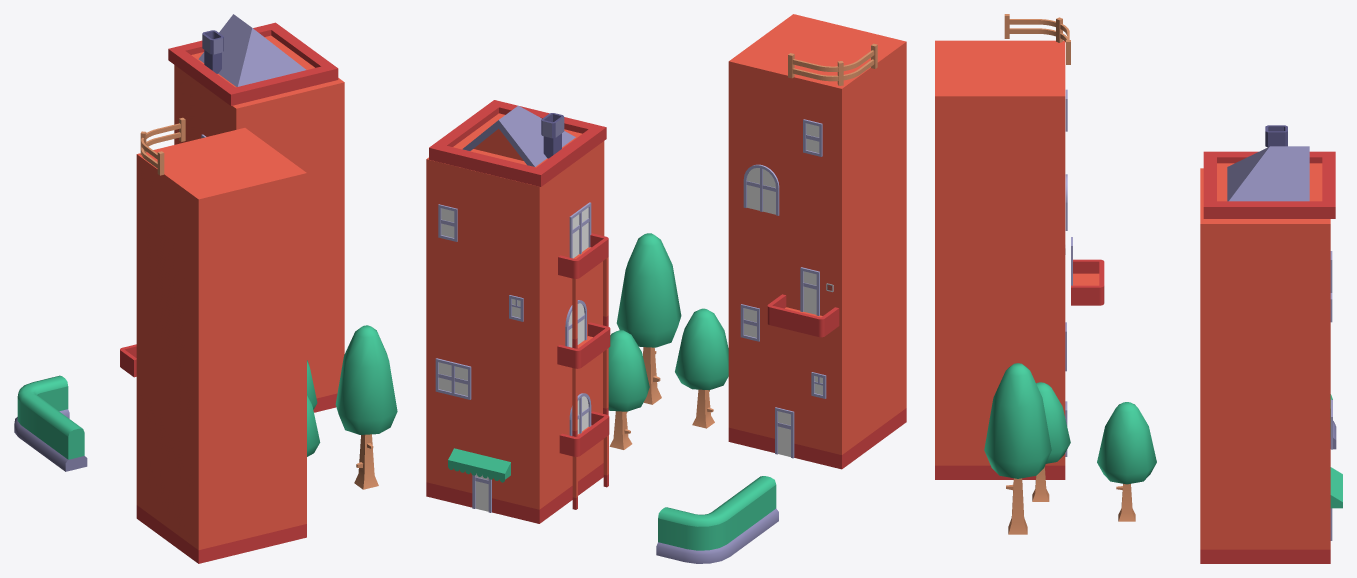
The model's file is cityblocks.glb.
The picture shows the model from 3 angles, left to right: view 1: azimuth 30°, elevation 25°; view 2: azimuth 150°, elevation 25°; view 3: azimuth 270°, elevation 25°; orthographic projection. The views are drawn at different scales.
Visible parts, largest first — view 1: mergedBlocks(Clone); view 2: mergedBlocks(Clone); view 3: mergedBlocks(Clone).
Part boxes in pixels (bbox=[...]): mergedBlocks(Clone): bbox=[14, 14, 397, 563]; mergedBlocks(Clone): bbox=[426, 14, 906, 563]; mergedBlocks(Clone): bbox=[935, 14, 1342, 563].
Bounding box in the file's own units: 1.02 × 1.36 × 1.23.
